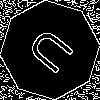U: (25, 25, 84, 82)
